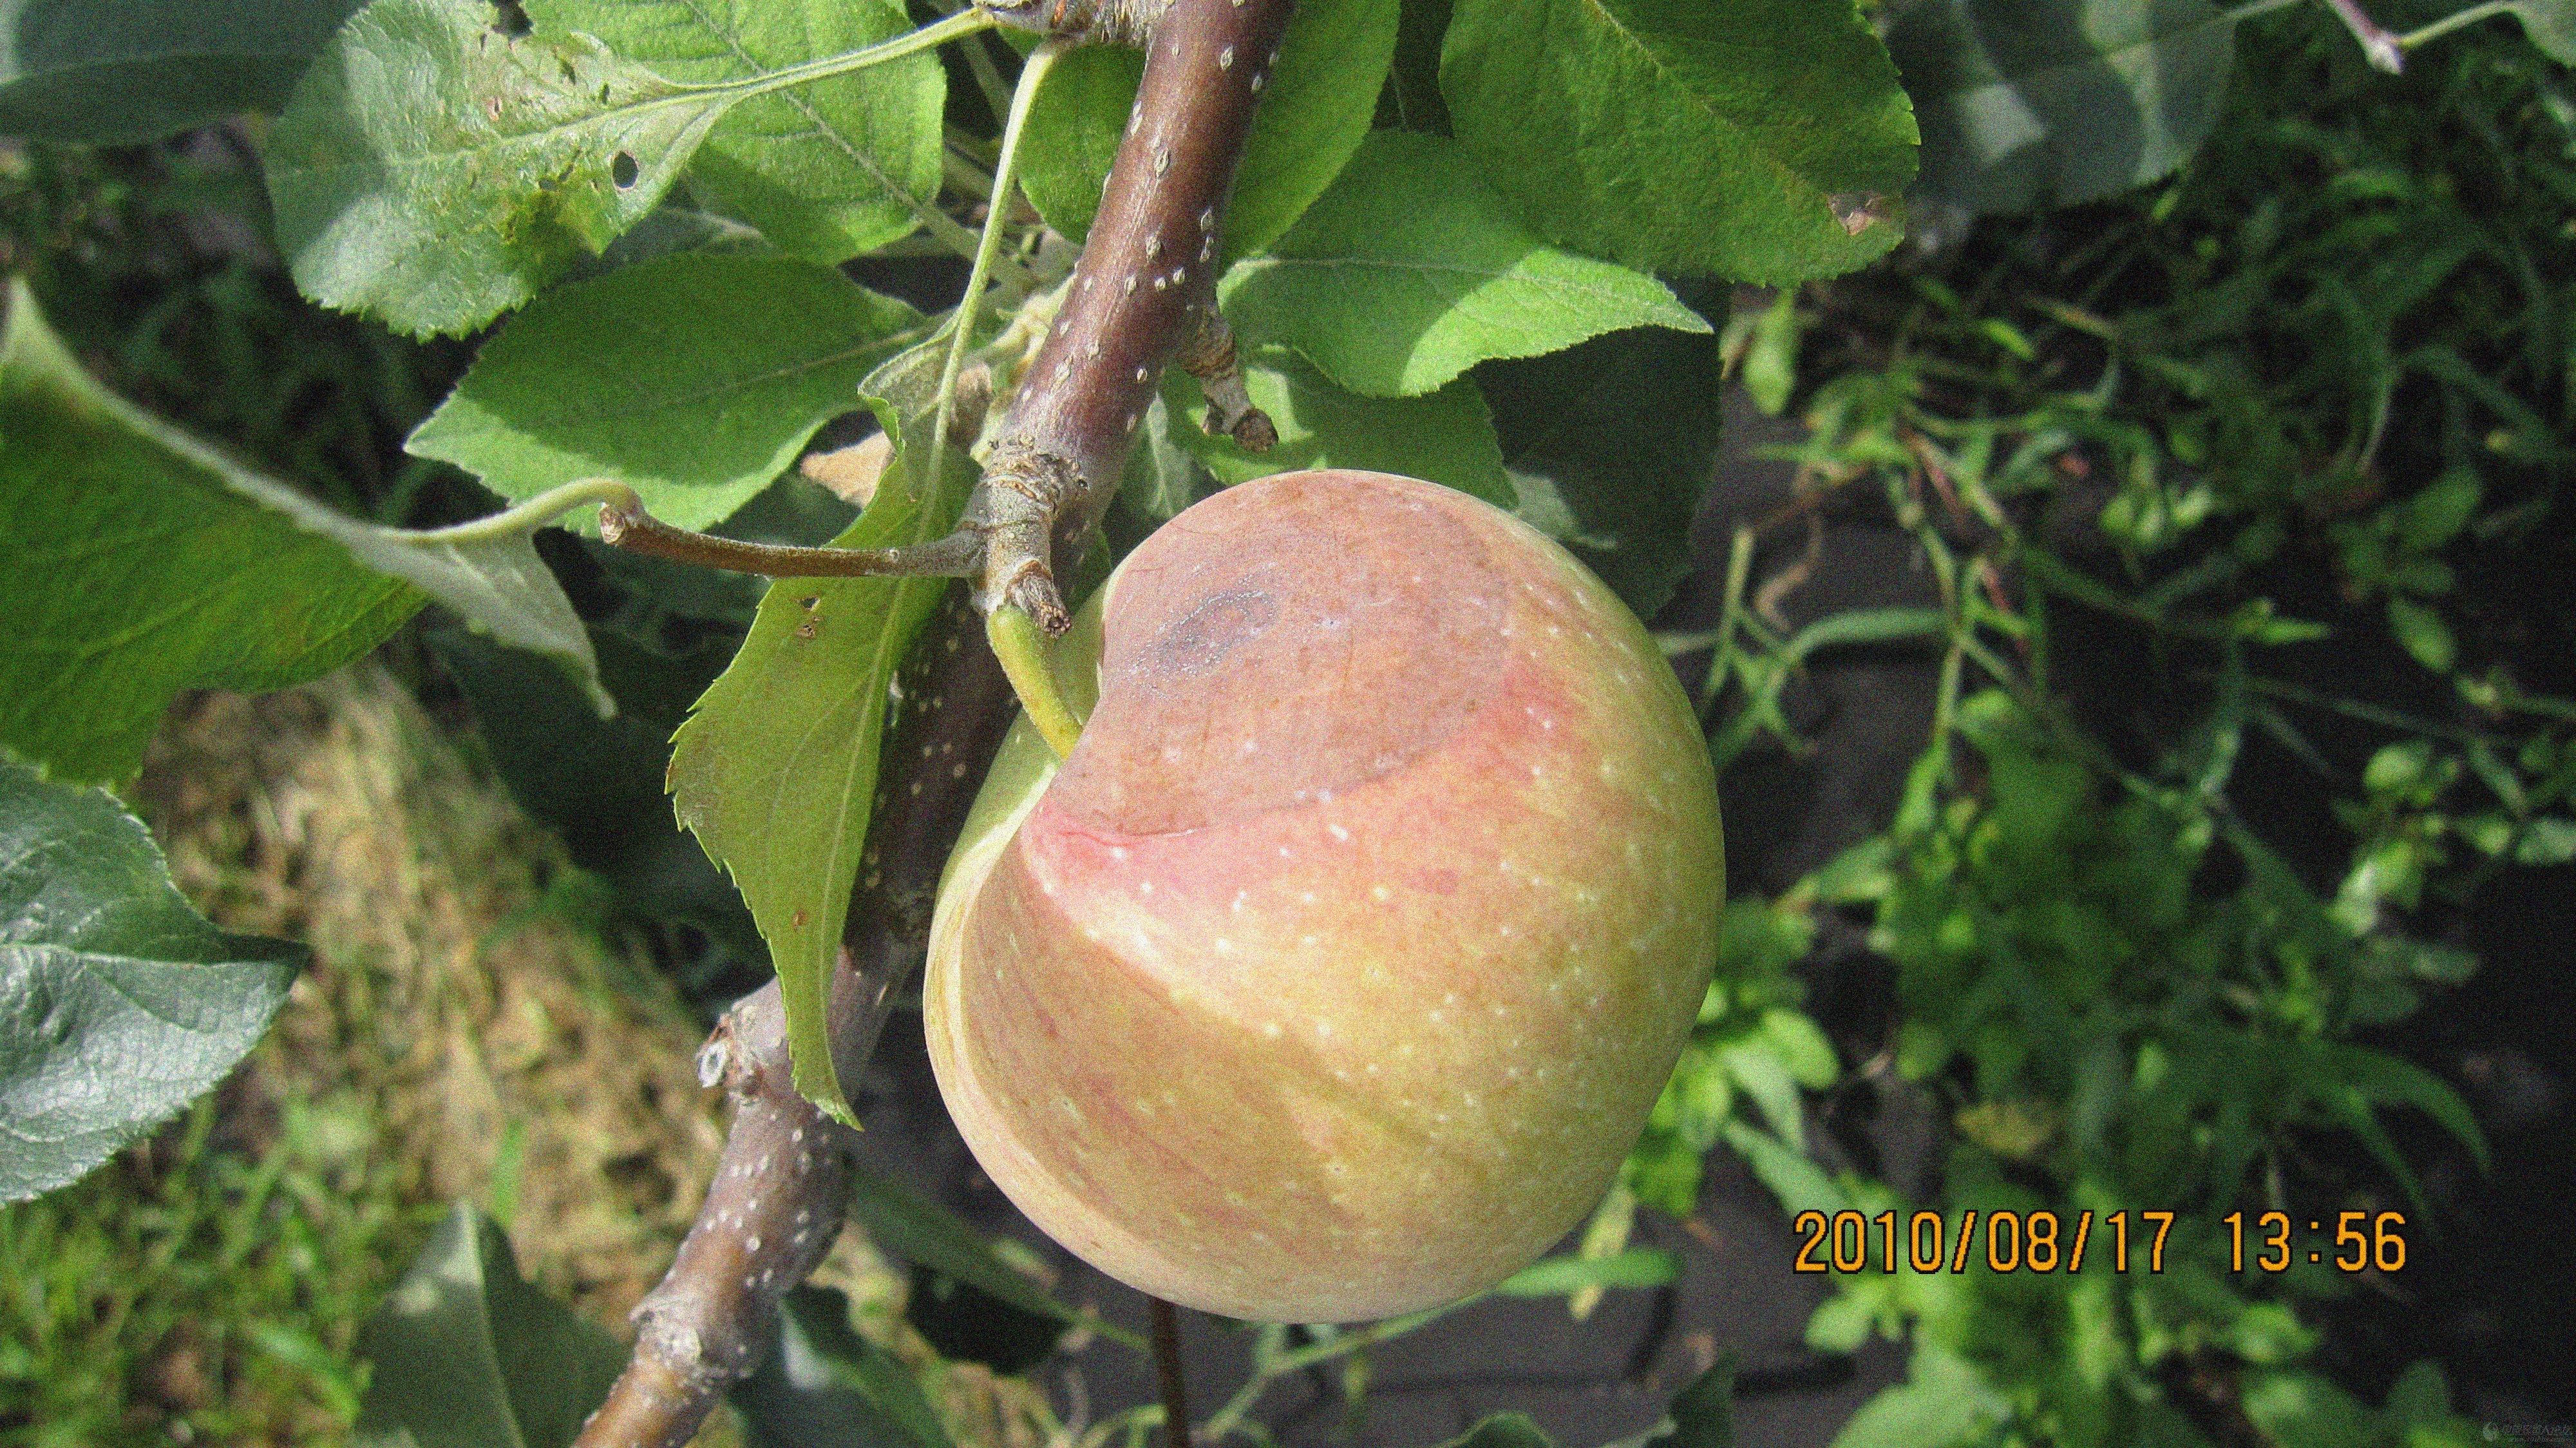rotten apple: (924, 471, 1727, 1349)
